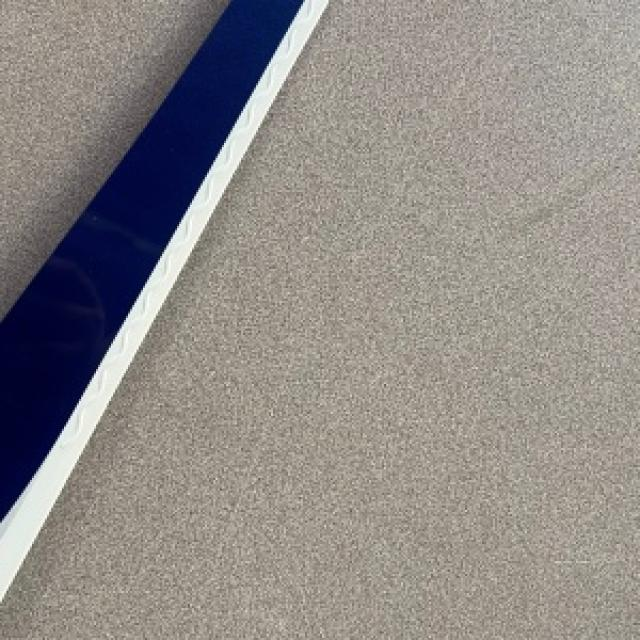healthy: (0, 0, 638, 638), (0, 0, 324, 595)
